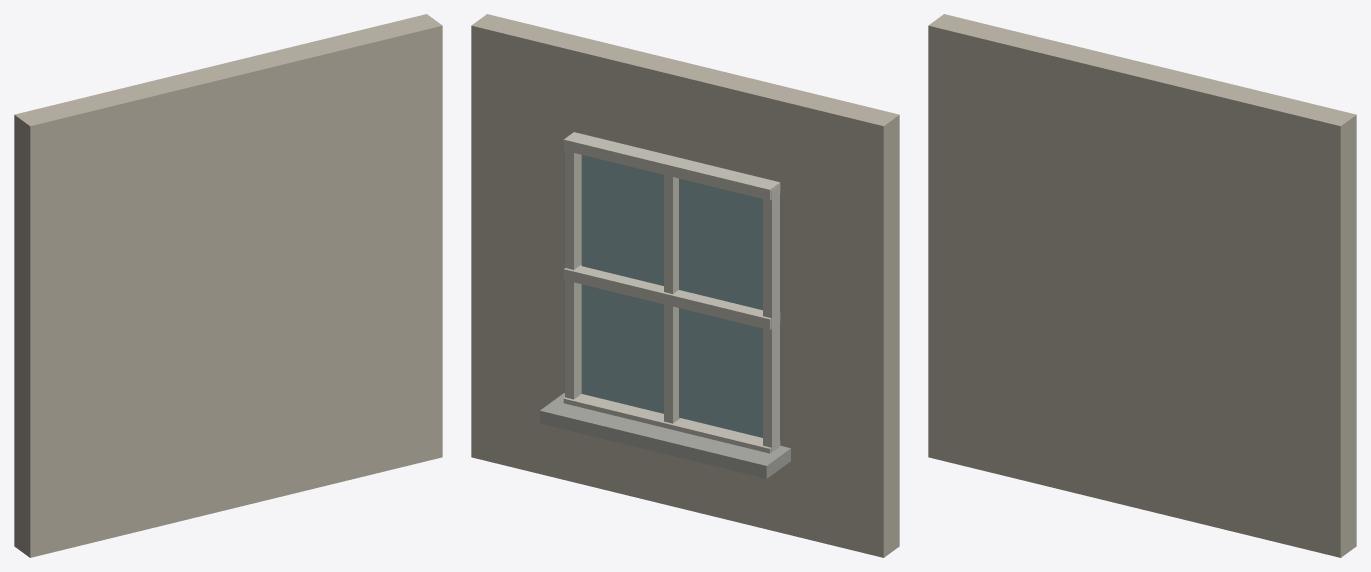
The model's file is window_plaster_cream.glb.
3 views of the same model, side by side, from view 1: azimuth 30°, elevation 25°; view 2: azimuth 150°, elevation 25°; view 3: azimuth 330°, elevation 25° (orthographic).
Parts seen in each view (by area): view 1: body; view 2: body; view 3: body.
Boxes of the visible parts, x1,y1,x2,y2 form: body: (14, 14, 442, 557); body: (471, 14, 899, 557); body: (928, 14, 1356, 557).
Bounding box in the file's own units: 3 × 3 × 0.505.
